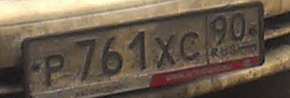character: (73, 36, 99, 83), (101, 35, 125, 77), (128, 28, 148, 72), (180, 29, 202, 64), (154, 34, 175, 70), (45, 53, 65, 88), (210, 11, 227, 46), (230, 11, 245, 42)
